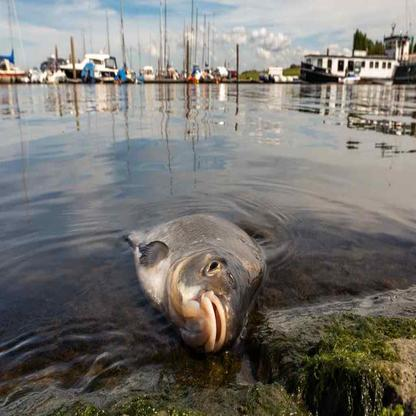deceased fish: (123, 205, 266, 350)
